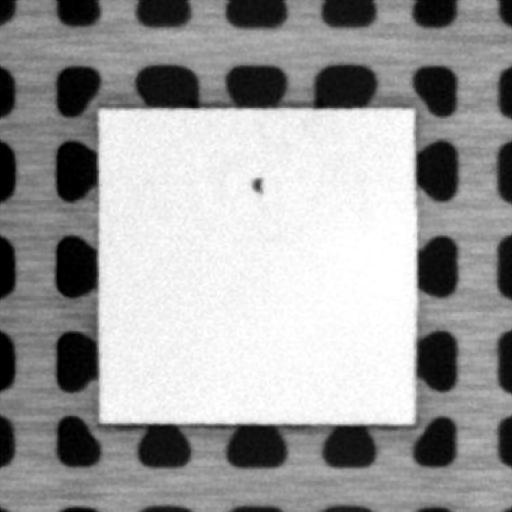DIE_INK: (247, 173, 264, 190)
